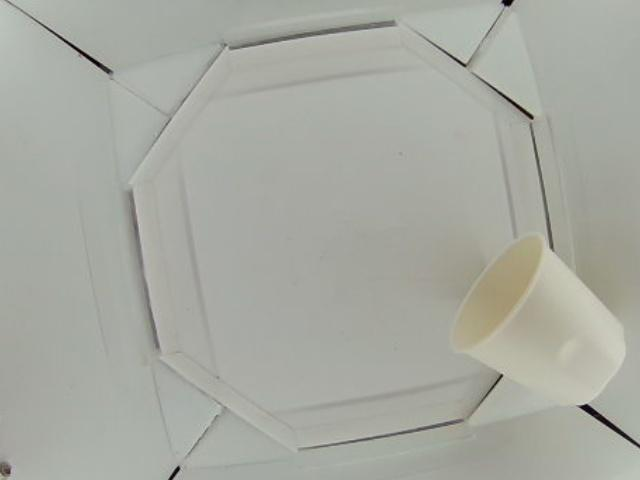Cup: (451, 232, 629, 408)
